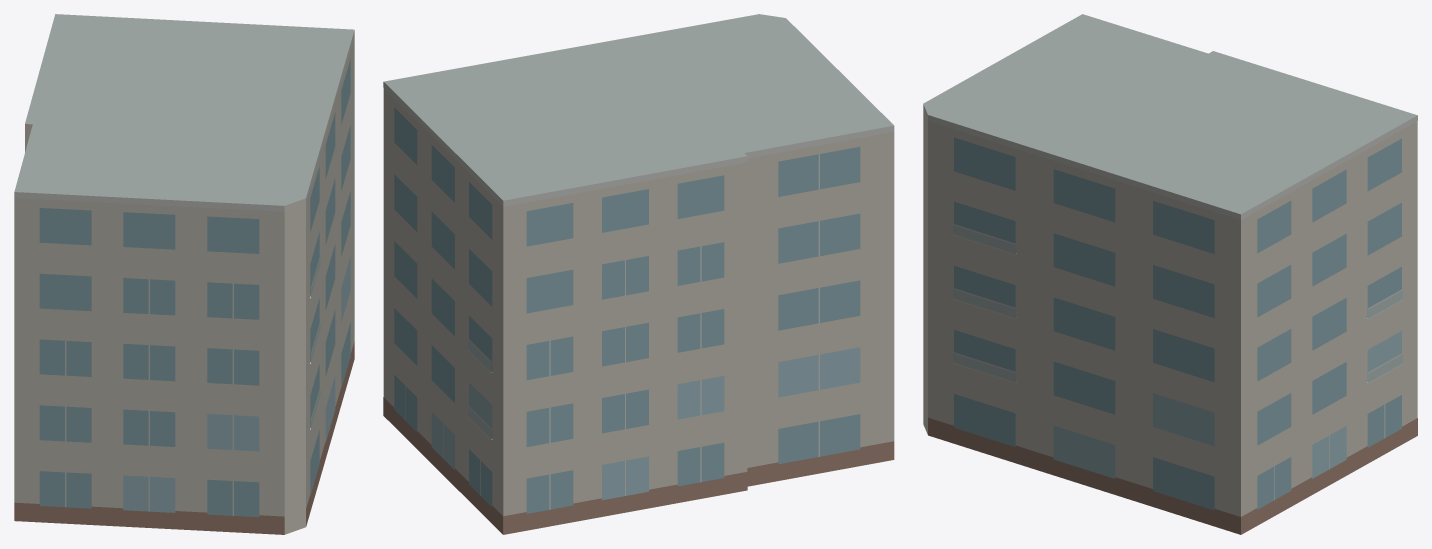
Rendered from survey-upis-33040385.glb.
3 renders of one model, left to right at view 1: azimuth 30°, elevation 25°; view 2: azimuth 150°, elevation 25°; view 3: azimuth 270°, elevation 25°, orthographic. The views are drawn at different scales.
Parts seen in each view (by area): view 1: survey-upis-33040385.tmp; view 2: survey-upis-33040385.tmp; view 3: survey-upis-33040385.tmp.
Boxes of the visible parts, left/top/right/bottom form: survey-upis-33040385.tmp: left=14, top=14, right=354, bottom=534; survey-upis-33040385.tmp: left=383, top=14, right=894, bottom=534; survey-upis-33040385.tmp: left=923, top=14, right=1417, bottom=534.
Bounding box in the file's own units: 18.11 × 13.5 × 18.89.
